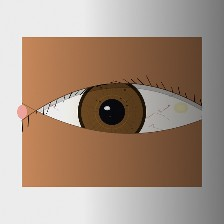pinguecula_lesion: (166, 96, 196, 120)
